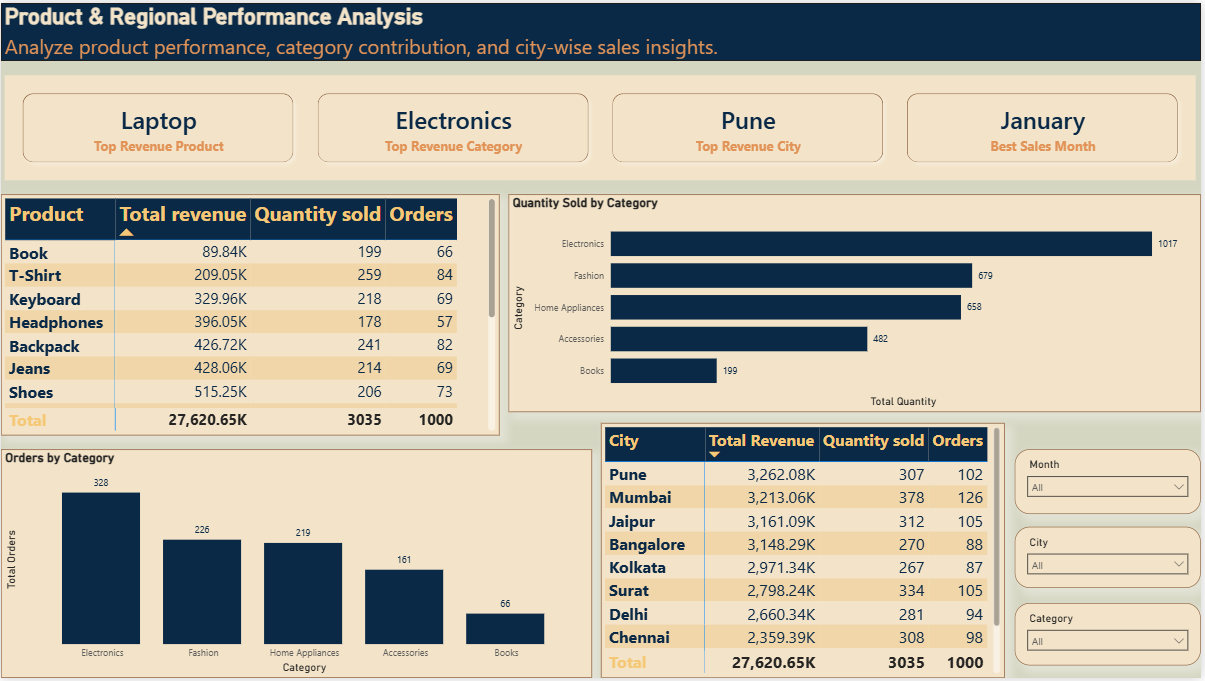

What the dashboard file says about the page in this screenshot:
{"tool":"powerbi","page":{"name":"Analyze product performance, category contribution, and city-wise sales insights.","canvas":[1600,900],"ordinal":1},"visuals":[{"type":"textbox","title":"Product & Regional Performance Analysis","box":[0,0,1600,76.7],"z":0},{"type":"cardVisual","fields":{"Data":["DAX Table.Top Revenue Product","DAX Table.Top Revenue Category","DAX Table.Top Revenue City","DAX Table.Best Sales Month"]},"box":[0,91.7,1600,150],"z":1000},{"type":"clusteredBarChart","title":"Quantity Sold by Category","fields":{"Category":["Ecommerce_Sales_jan_june26.Category"],"Y":["Sum(Ecommerce_Sales_jan_june26.Quantity)"]},"box":[676.7,255,923.3,290],"z":2000},{"type":"clusteredColumnChart","title":"Orders by Category","fields":{"Category":["Ecommerce_Sales_jan_june26.Category"],"Y":["CountNonNull(Ecommerce_Sales_jan_june26.Order_ID)"]},"box":[0,595,788.3,305],"z":3000},{"type":"slicer","fields":{"Values":["Ecommerce_Sales_jan_june26.Month"]},"box":[1351.7,595,248.3,86.7],"z":4000},{"type":"slicer","fields":{"Values":["Ecommerce_Sales_jan_june26.City"]},"box":[1351.7,698.3,248.3,81.7],"z":5000},{"type":"slicer","fields":{"Values":["Ecommerce_Sales_jan_june26.Category"]},"box":[1351.7,800,248.3,83.3],"z":6000},{"type":"pivotTable","fields":{"Rows":["Ecommerce_Sales_jan_june26.Product"],"Values":["Sum(Ecommerce_Sales_jan_june26.Total_price)","Sum(Ecommerce_Sales_jan_june26.Quantity)","CountNonNull(Ecommerce_Sales_jan_june26.Order_ID)"]},"box":[0,255,665,321.7],"z":7000},{"type":"pivotTable","fields":{"Rows":["Ecommerce_Sales_jan_june26.City"],"Values":["Sum(Ecommerce_Sales_jan_june26.Total_price)","Sum(Ecommerce_Sales_jan_june26.Quantity)","CountNonNull(Ecommerce_Sales_jan_june26.Order_ID)"]},"box":[800,560,538.3,340],"z":8000}]}

Visuals, with their boxes in screenshot pixels (x1, y1, x2, y2), scaled from the page's 1600x900 canvas onto the 1205x681 screenshot:
"Product & Regional Performance Analysis" textbox: x1=0, y1=0, x2=1204, y2=58
cardVisual - DAX Table.Top Revenue Product x DAX Table.Top Revenue Category: x1=0, y1=69, x2=1204, y2=183
"Quantity Sold by Category" clusteredBarChart: x1=510, y1=193, x2=1204, y2=412
"Orders by Category" clusteredColumnChart: x1=0, y1=450, x2=594, y2=680
slicer - Ecommerce_Sales_jan_june26.Month: x1=1018, y1=450, x2=1204, y2=516
slicer - Ecommerce_Sales_jan_june26.City: x1=1018, y1=528, x2=1204, y2=590
slicer - Ecommerce_Sales_jan_june26.Category: x1=1018, y1=605, x2=1204, y2=668
pivotTable - Ecommerce_Sales_jan_june26.Product x Sum(Ecommerce_Sales_jan_june26.Total_price): x1=0, y1=193, x2=501, y2=436
pivotTable - Ecommerce_Sales_jan_june26.City x Sum(Ecommerce_Sales_jan_june26.Total_price): x1=602, y1=424, x2=1008, y2=680
